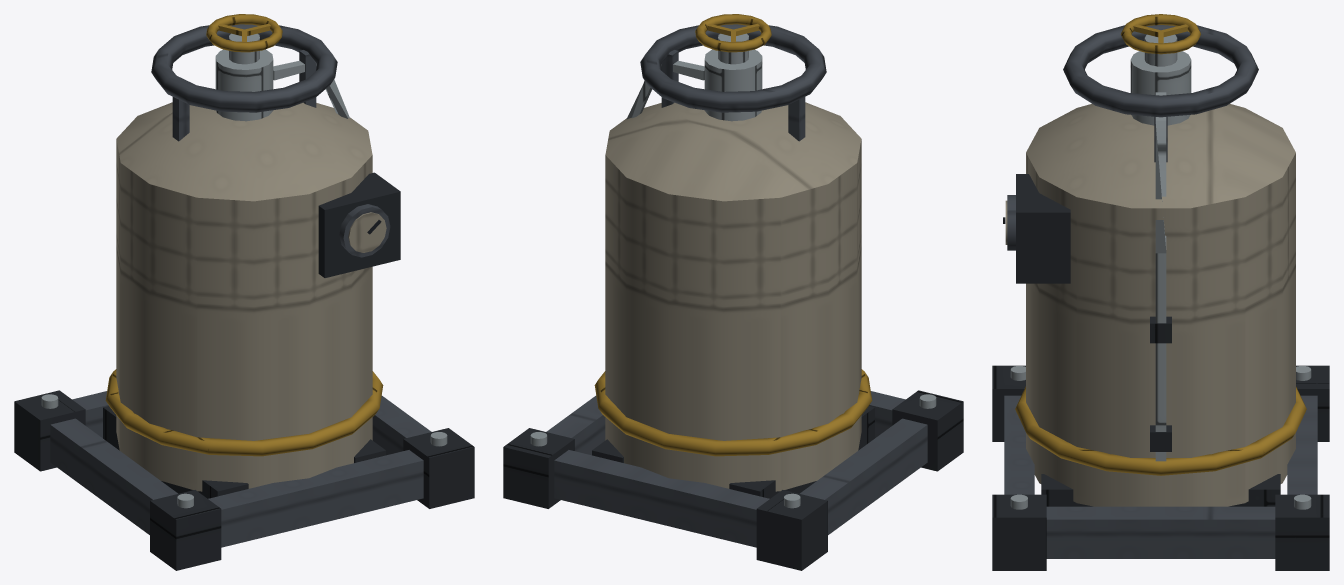
File: cargo-cryogenic-dewar_lod1.glb
3 renders of one model, left to right at view 1: azimuth 30°, elevation 25°; view 2: azimuth 150°, elevation 25°; view 3: azimuth 270°, elevation 25°, orthographic. The views are drawn at different scales.
Parts seen in each view (by area): view 1: LOD1_Ceramic, LOD1_Mechanical, LOD1_Armor, LOD1_Livery, LOD1_BrushedMetal; view 2: LOD1_Ceramic, LOD1_Mechanical, LOD1_Armor, LOD1_Livery, LOD1_BrushedMetal; view 3: LOD1_Ceramic, LOD1_Mechanical, LOD1_Armor, LOD1_Livery, LOD1_BrushedMetal.
Part boxes in pixels (x1=…): LOD1_Ceramic: x1=116, y1=102, x2=386, y2=491; LOD1_Mechanical: x1=50, y1=24, x2=431, y2=547; LOD1_Armor: x1=14, y1=172, x2=474, y2=570; LOD1_Livery: x1=105, y1=14, x2=383, y2=456; LOD1_BrushedMetal: x1=41, y1=33, x2=447, y2=508; LOD1_Ceramic: x1=605, y1=102, x2=861, y2=491; LOD1_Mechanical: x1=546, y1=24, x2=927, y2=547; LOD1_Armor: x1=503, y1=390, x2=963, y2=570; LOD1_Livery: x1=594, y1=14, x2=872, y2=456; LOD1_BrushedMetal: x1=530, y1=33, x2=936, y2=508; LOD1_Ceramic: x1=1005, y1=104, x2=1295, y2=506; LOD1_Mechanical: x1=1004, y1=25, x2=1317, y2=558; LOD1_Armor: x1=992, y1=174, x2=1329, y2=570; LOD1_Livery: x1=1015, y1=14, x2=1306, y2=475; LOD1_BrushedMetal: x1=1010, y1=34, x2=1311, y2=509.
Bounding box in the file's own units: 1.65 × 2.36 × 1.55.
6 materials, 6 textured.
